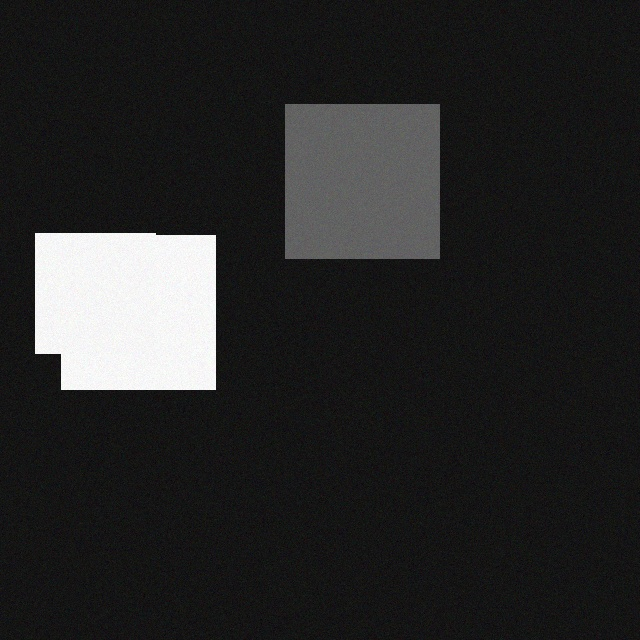square: (296, 119, 450, 273), (72, 250, 226, 404), (46, 248, 166, 368)
